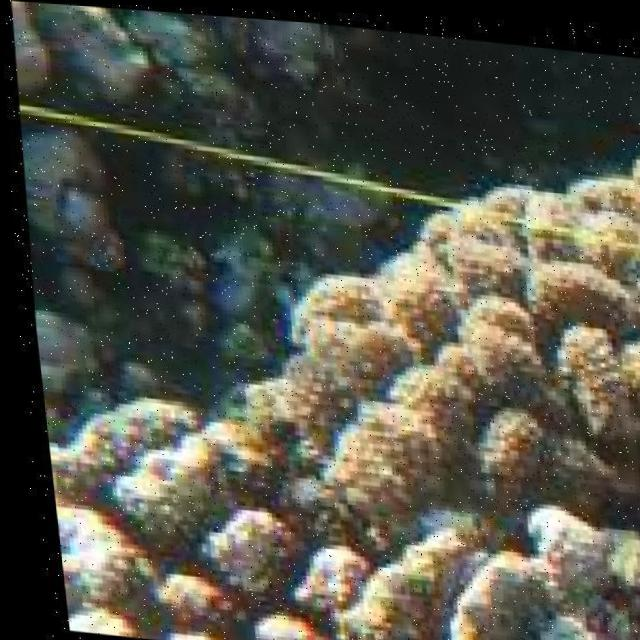Healthy Coral: (25, 121, 640, 640)
